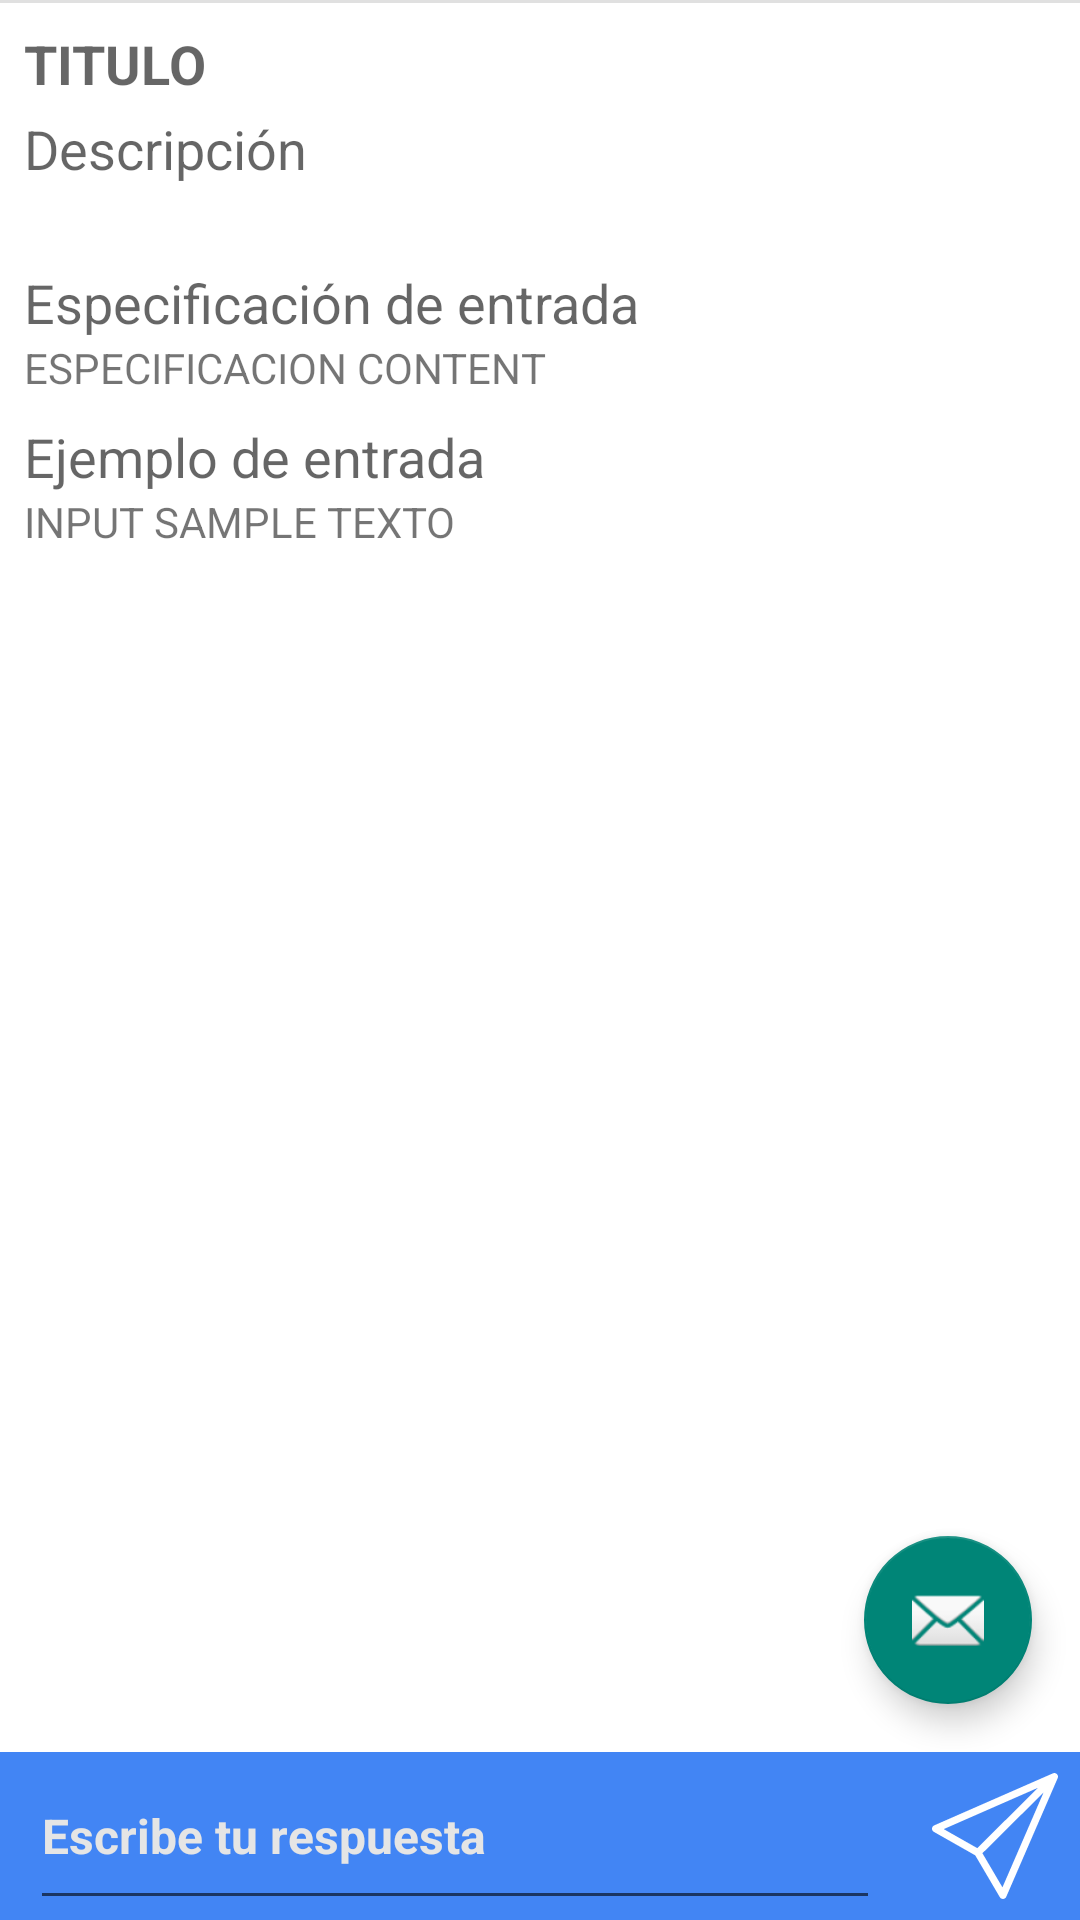

Where to tap for icons on this 1080x1920 app screen, as [x,y]:
email: [948,1620]
submit: [995,1836]
